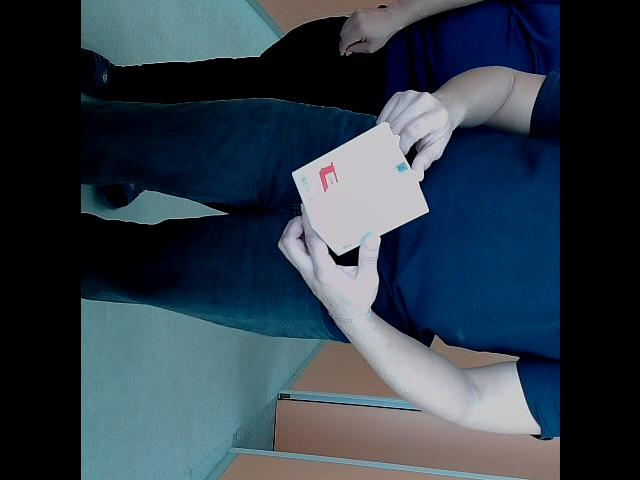Blind_box: (285, 116, 428, 260)
